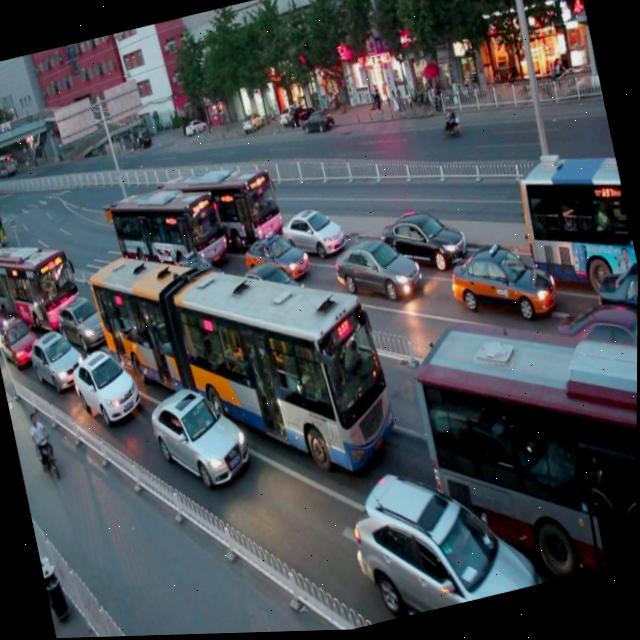car: (342, 448, 537, 627), (143, 372, 255, 501), (445, 230, 563, 343), (545, 292, 638, 431), (329, 224, 424, 317), (379, 198, 471, 283), (68, 338, 145, 431), (238, 221, 312, 295), (276, 196, 347, 270), (167, 245, 236, 313), (238, 252, 307, 318), (30, 323, 89, 399), (55, 290, 112, 355), (588, 267, 638, 341), (0, 305, 43, 372)
van: (83, 196, 407, 524), (402, 281, 638, 607), (509, 142, 639, 302), (105, 168, 233, 297), (159, 148, 288, 269), (0, 225, 83, 336)
